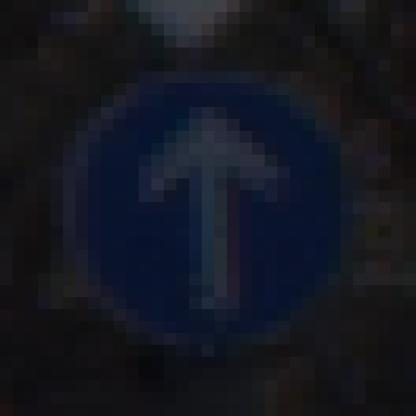AheadOnly: (64, 61, 354, 358)
